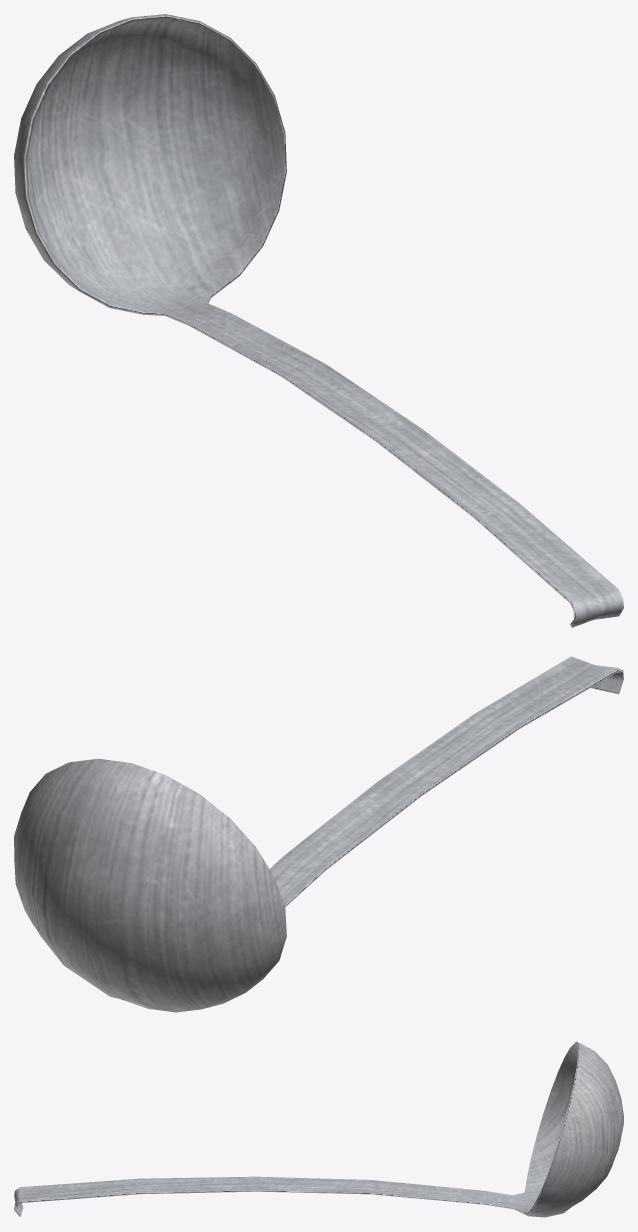
The model's file is SM_KitchenwareA.FBX.
3 views of the same model, one above another, from view 1: azimuth 30°, elevation 25°; view 2: azimuth 150°, elevation 25°; view 3: azimuth 270°, elevation 25° (orthographic). The views are drawn at different scales.
Parts seen in each view (by area): view 1: SM_KitchenwareA; view 2: SM_KitchenwareA; view 3: SM_KitchenwareA.
Part boxes in pixels (x1,y1,x2,y2): SM_KitchenwareA: [14, 14, 623, 627]; SM_KitchenwareA: [14, 656, 623, 1012]; SM_KitchenwareA: [14, 1041, 623, 1217].
Bounding box in the file's own units: 8.32 × 8.06 × 27.83.
